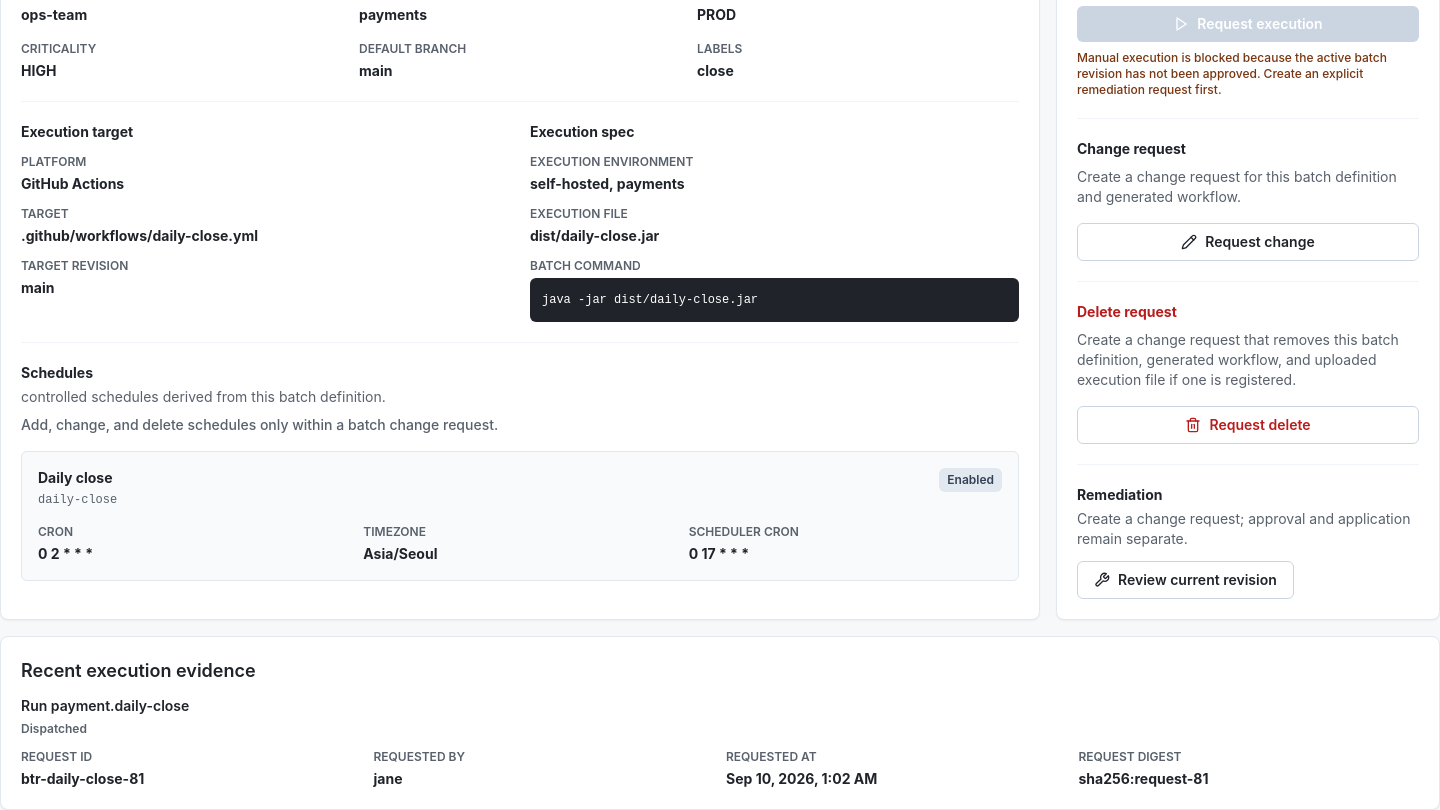
Scenario: BatchDetailPage › blocks bypassed manual execution and opens the returned remediation request
This screenshot has width=1440, height=810.
(page scrolled)
expect the button "Request execution" is disabled: met, box [1077,6,1419,42]
Click the button "Review current revision" at {"x": 1185, "y": 580}, box [1077,561,1294,599]
(page scrolled)
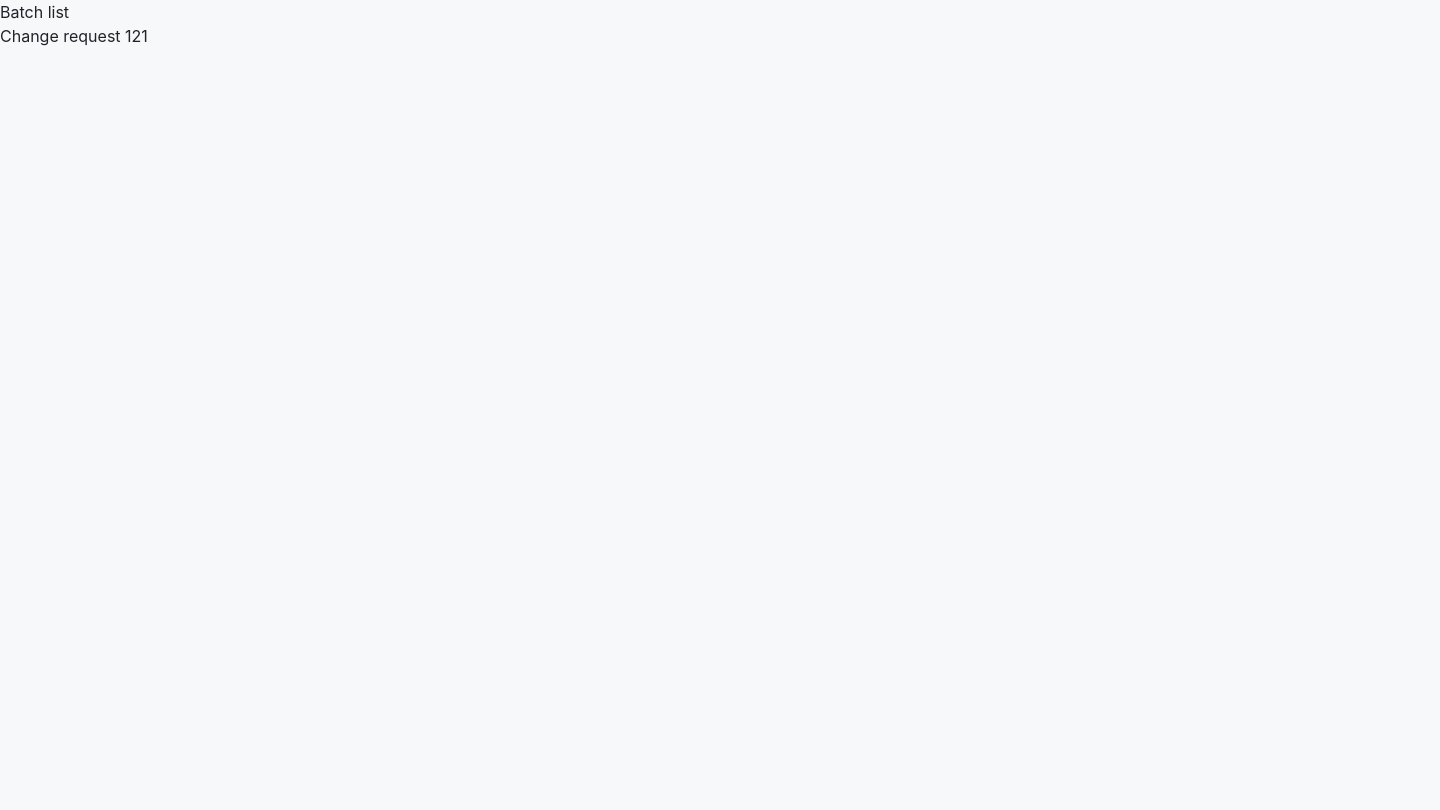
expect the text "Change request 121" is shown: met, box [0,26,148,46]
